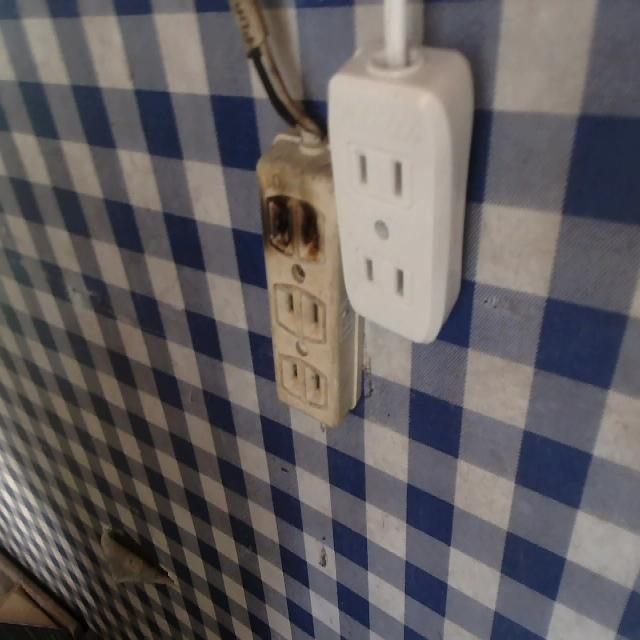-: (255, 171, 328, 269)
